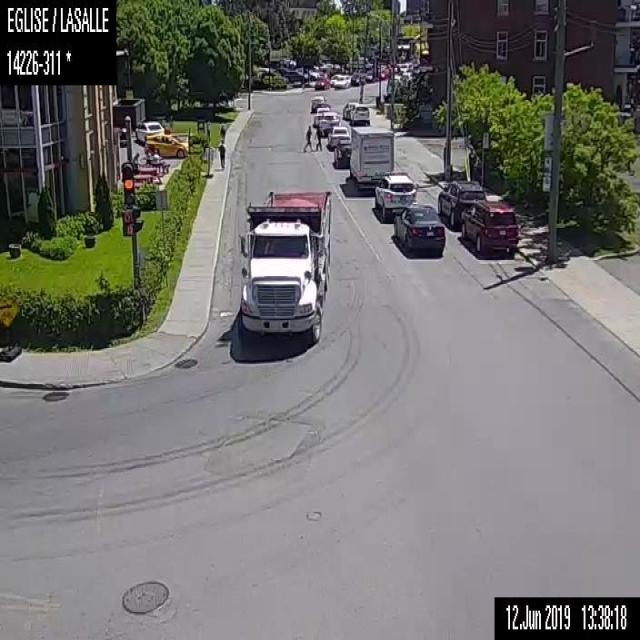pedestrian: (302, 123, 323, 153), (312, 120, 323, 152), (216, 120, 226, 144), (218, 136, 225, 169), (131, 151, 141, 169)
vehicle: (235, 188, 332, 343), (457, 197, 520, 257), (389, 201, 448, 259), (348, 123, 395, 194), (436, 176, 485, 225), (373, 171, 416, 220), (144, 125, 187, 157), (133, 116, 164, 146), (332, 140, 350, 166), (327, 125, 346, 149), (319, 111, 339, 132), (349, 102, 369, 122), (331, 70, 349, 90), (350, 68, 368, 86), (312, 75, 330, 91), (310, 92, 324, 110)
